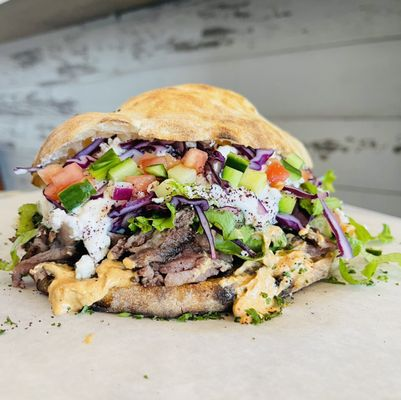soup: (11, 82, 353, 326)
